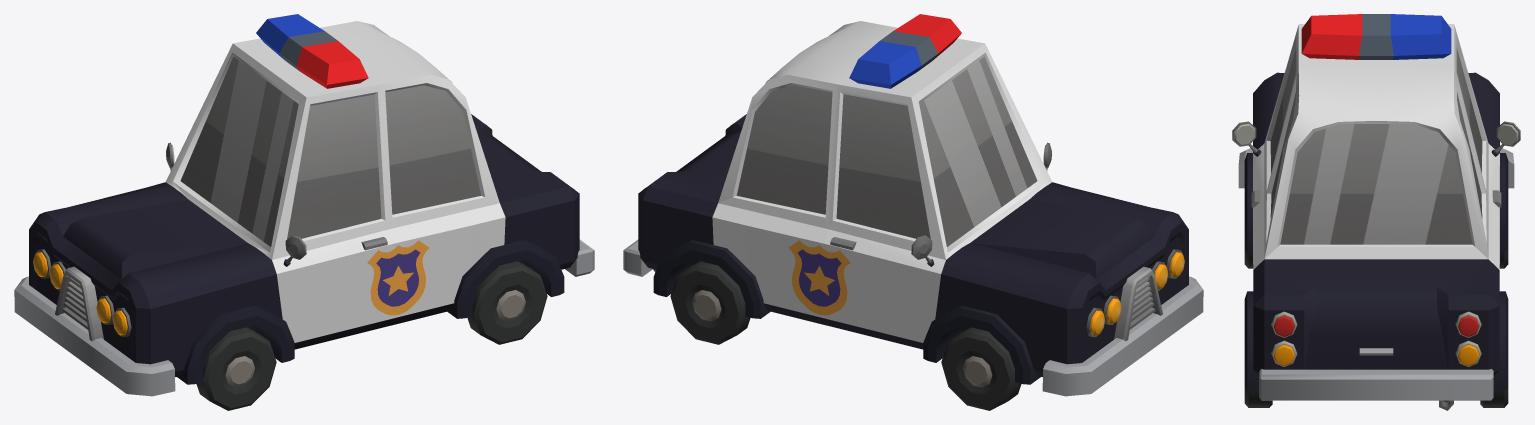
The model's file is Car_Police_4_A_2.fbx.
3 renders of one model, left to right at view 1: azimuth 30°, elevation 25°; view 2: azimuth 150°, elevation 25°; view 3: azimuth 270°, elevation 25°, orthographic. The views are drawn at different scales.
Visible parts, largest first — view 1: Car_Police_4_A_2, RL, FL; view 2: Car_Police_4_A_2, RR, FR; view 3: Car_Police_4_A_2, RL, RR.
Part boxes in pixels (x1,y1,x2,y2): Car_Police_4_A_2: (14,14,594,396); RL: (467,261,547,344); FL: (196,327,276,410); Car_Police_4_A_2: (623,14,1203,396); RR: (670,261,750,344); FR: (941,327,1021,410); Car_Police_4_A_2: (1232,14,1520,410); RL: (1244,388,1272,407); RR: (1480,388,1508,407).
Bounding box in the file's own units: 336 × 200 × 170.
